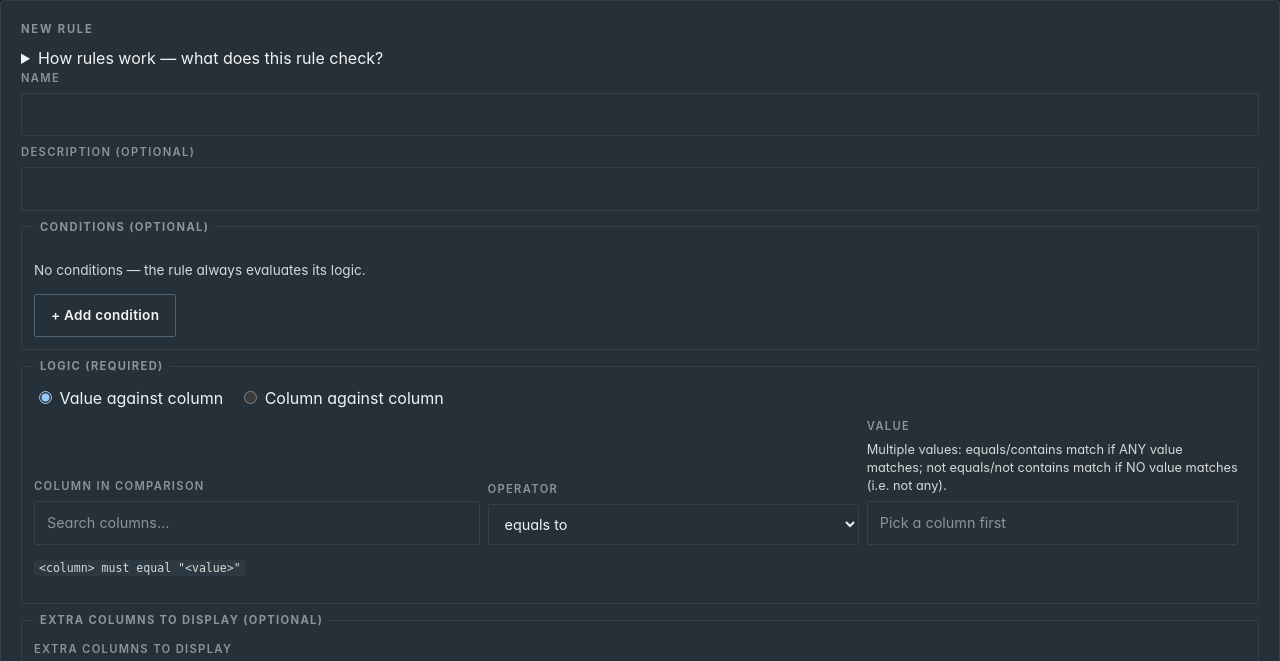
Test: RuleEditor › switches to the column-against-column format
Click the radio button labelled "Column against column": (251, 398) [244,391,257,404]
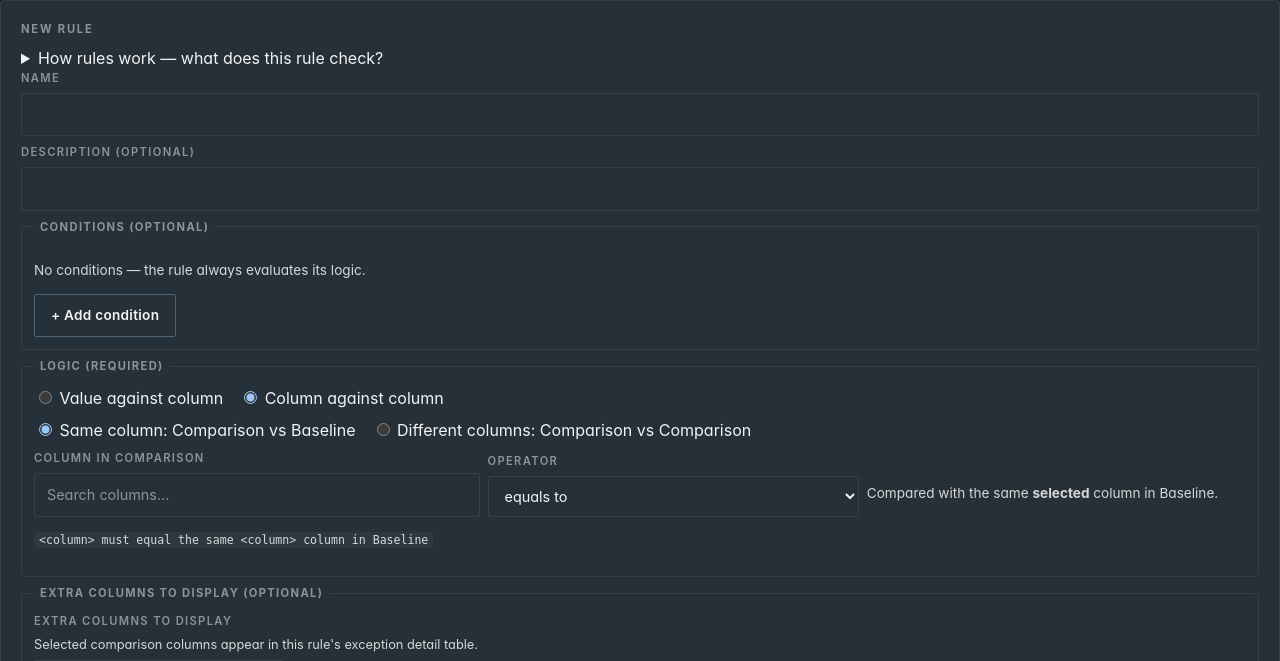
Check: the search field labelled "SECOND COLUMN in COMPARISON" is not shown
Check: the radio button labelled "Same column: Comparison vs Baseline" is checked, box [39,423,52,436]
Click the radio button labelled "Different columns: Comparison vs Comparison": (383, 430) [376,423,390,436]
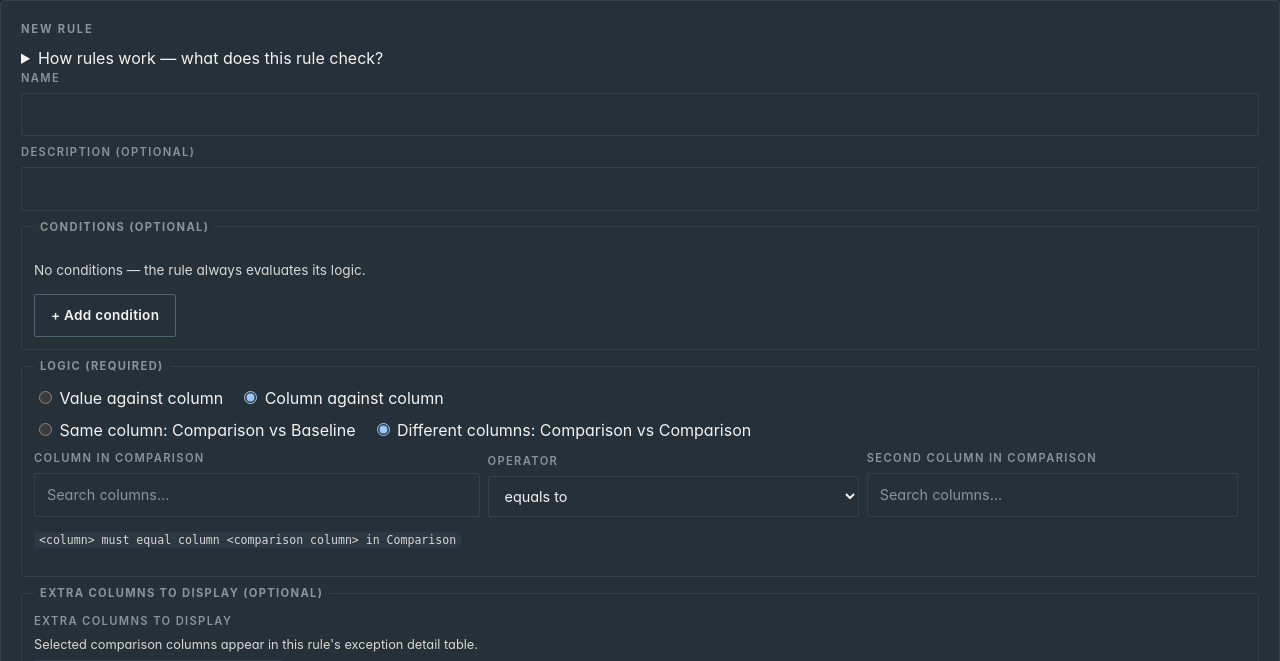
Check: the search field labelled "SECOND COLUMN in COMPARISON" is shown, box [867,473,1238,517]
